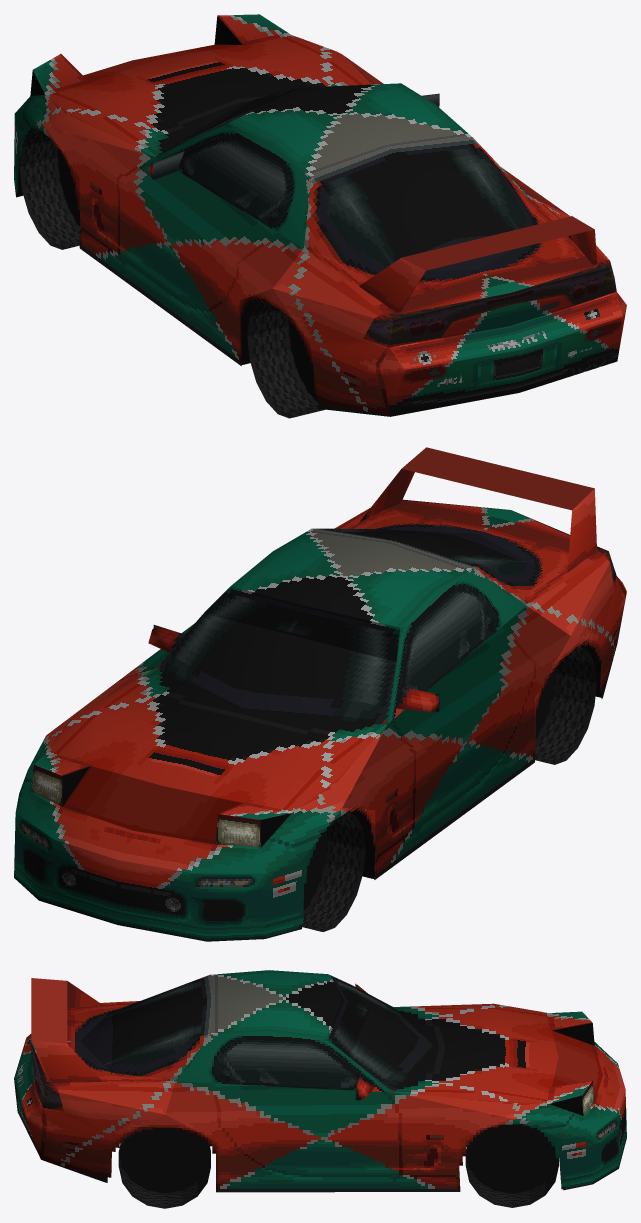
The model's file is GT_SIMULATION__AFD7R_NIGHT.glb.
The picture shows the model from 3 angles, top to bottom: view 1: azimuth 30°, elevation 25°; view 2: azimuth 150°, elevation 25°; view 3: azimuth 270°, elevation 25°; orthographic projection. The views are drawn at different scales.
Parts seen in each view (by area): view 1: Native body LOD0, Native wheel 2, Native wheel 0; view 2: Native body LOD0, Native wheel 0, Native wheel 2; view 3: Native body LOD0, Native wheel 1, Native wheel 3.
Part boxes in pixels (box(x1,y1,x2,y2)): Native body LOD0: box(14, 14, 626, 416); Native wheel 2: box(247, 301, 324, 418); Native wheel 0: box(19, 129, 79, 249); Native body LOD0: box(14, 447, 626, 941); Native wheel 0: box(303, 812, 365, 931); Native wheel 2: box(535, 646, 596, 764); Native body LOD0: box(14, 970, 626, 1192); Native wheel 1: box(465, 1124, 558, 1207); Native wheel 3: box(118, 1127, 210, 1208).
Bounding box in the file's own units: 1.82 × 1.23 × 4.3.
13 materials, 12 textured.
